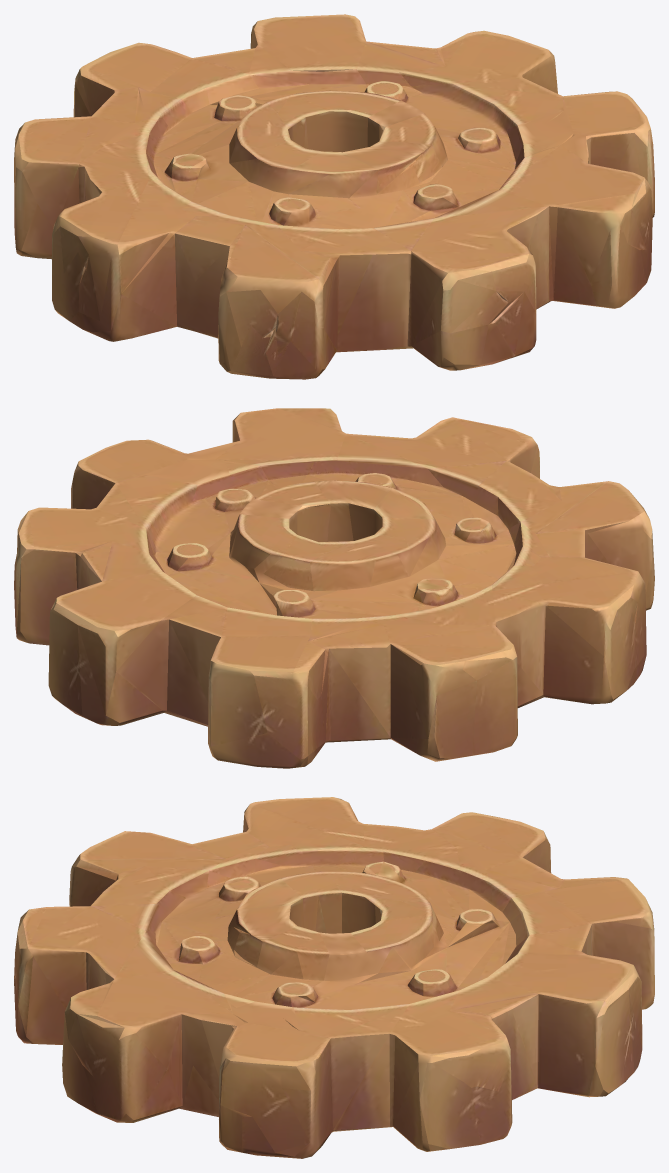
Rendered from gear.glb.
3 renders of one model, top to bottom at view 1: azimuth 30°, elevation 25°; view 2: azimuth 150°, elevation 25°; view 3: azimuth 270°, elevation 25°, orthographic.
Bounding box in the file's own units: 1.9 × 0.3712 × 1.89.
Materials: 1 (1 with a texture image).
